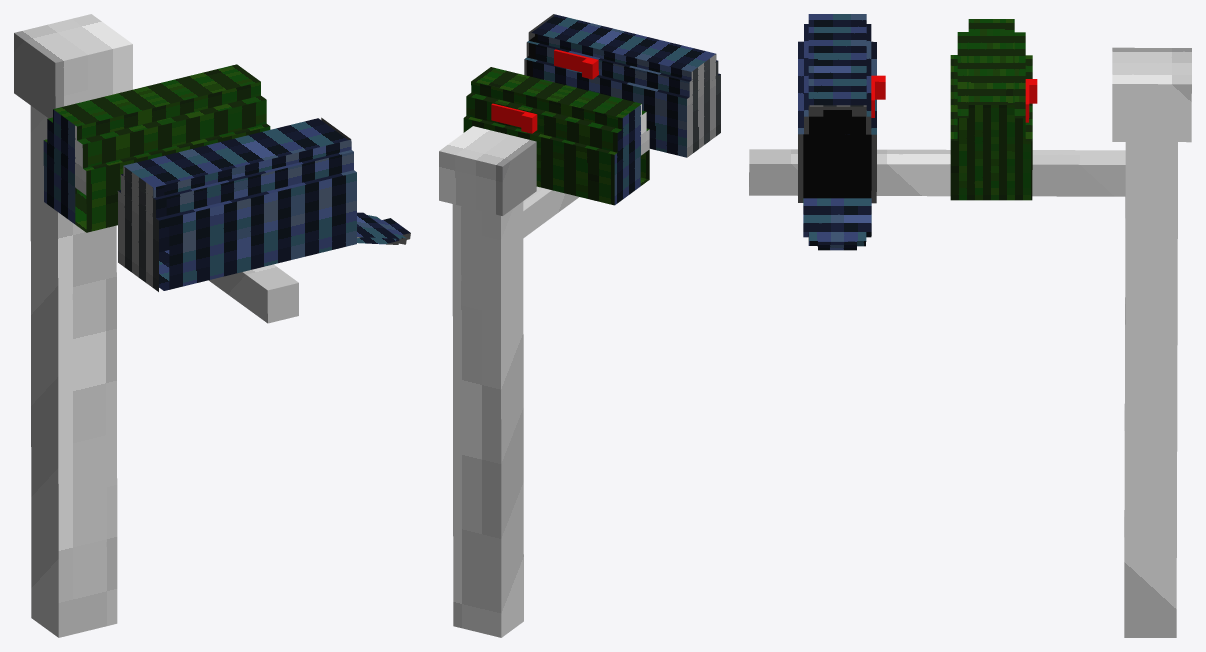
The model's file is BGN-MAILBOX.fbx.
The picture shows the model from 3 angles, left to right: view 1: azimuth 30°, elevation 25°; view 2: azimuth 150°, elevation 25°; view 3: azimuth 270°, elevation 25°; orthographic projection. The views are drawn at different scales.
Visible parts, largest first — view 1: BGN_MAILBOX; view 2: BGN_MAILBOX; view 3: BGN_MAILBOX.
Part boxes in pixels (x1,y1,x2,y2): BGN_MAILBOX: (14,14,410,637); BGN_MAILBOX: (439,14,720,637); BGN_MAILBOX: (749,14,1191,637).
Size of the model in its own units: 67.2 by 144 by 102.
